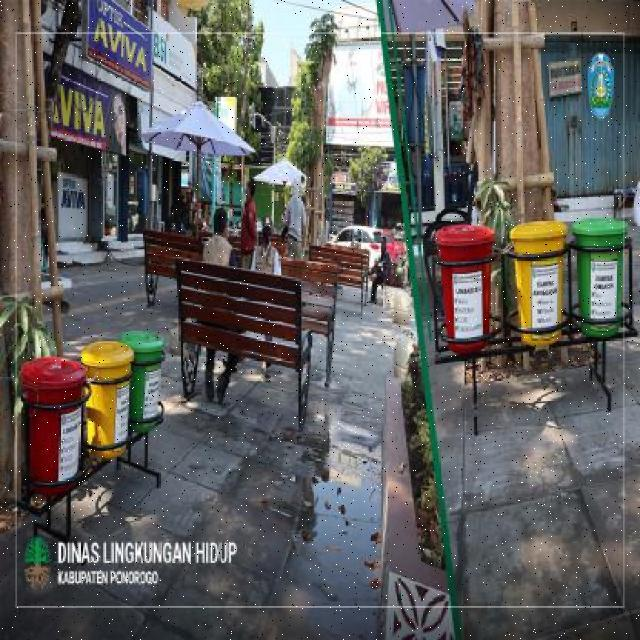garbage container: (429, 215, 500, 372), (19, 346, 87, 499), (507, 220, 570, 360), (570, 209, 630, 354), (82, 333, 135, 469), (120, 322, 171, 438)
